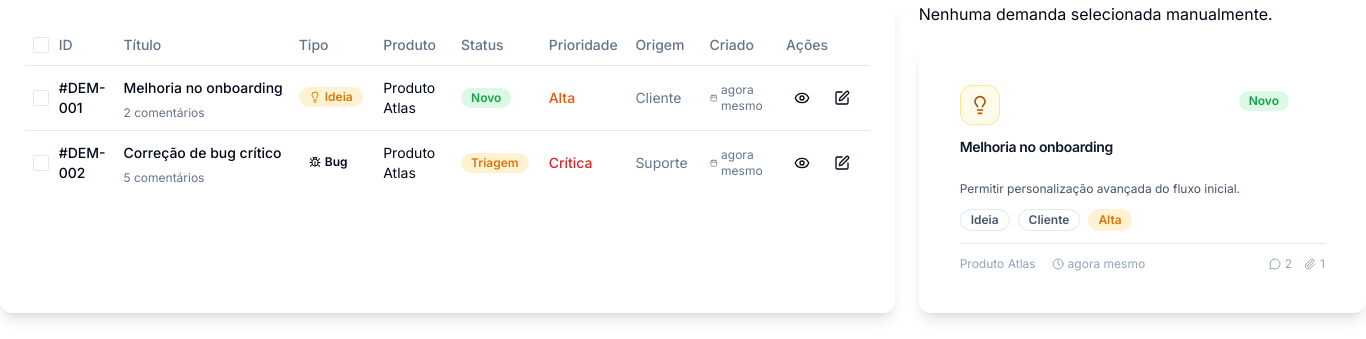
Test: Demandas page integration › exibe contador de seleção quando linhas são marcadas
The width and height of the screenshot is (1366, 339).
Check: the text with test id "selecionadas" reads "Nenhuma demanda selecionada manualmente.", box x1=919 y1=4 x2=1273 y2=24
Click the checkbox named "Selecionar demanda DEM-001" at x=41, y=98, box x1=33 y1=90 x2=49 y2=106
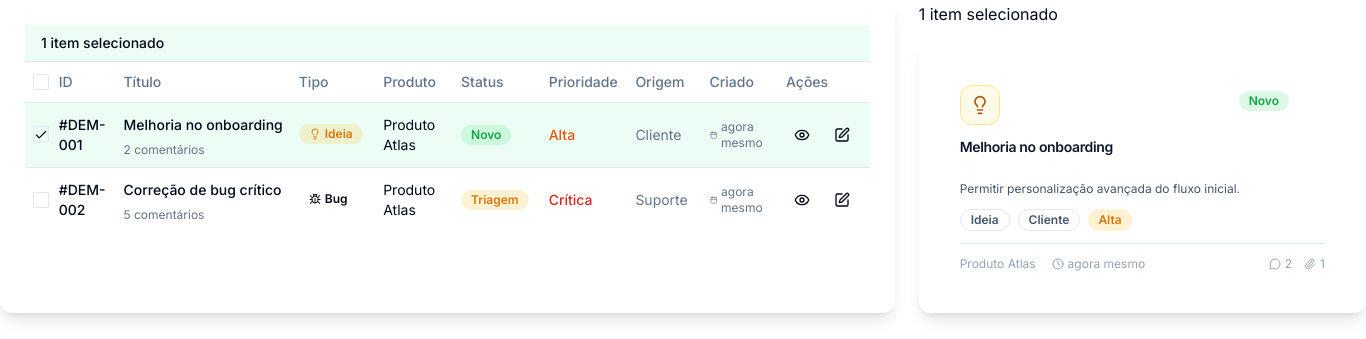
Check: the text with test id "selecionadas" reads "1 item selecionado", box x1=919 y1=4 x2=1058 y2=24
